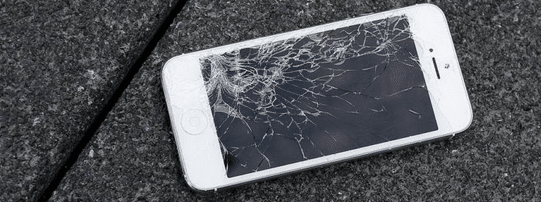Phone: (159, 2, 475, 193)
